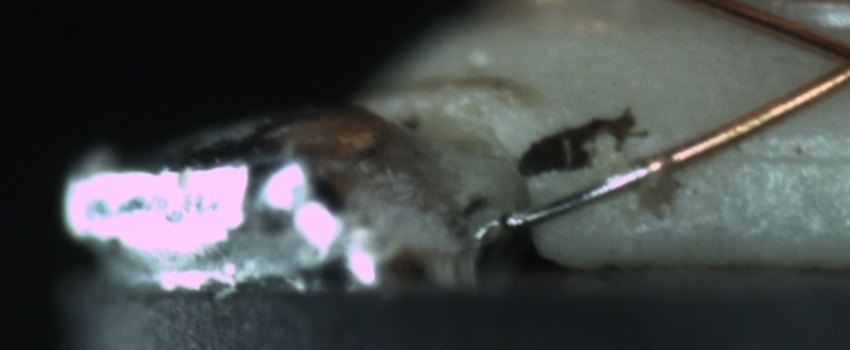CL: (807, 26, 850, 94)
DL: (728, 122, 849, 188)
TS: (503, 160, 658, 232)
TTCW: (496, 145, 710, 240)
